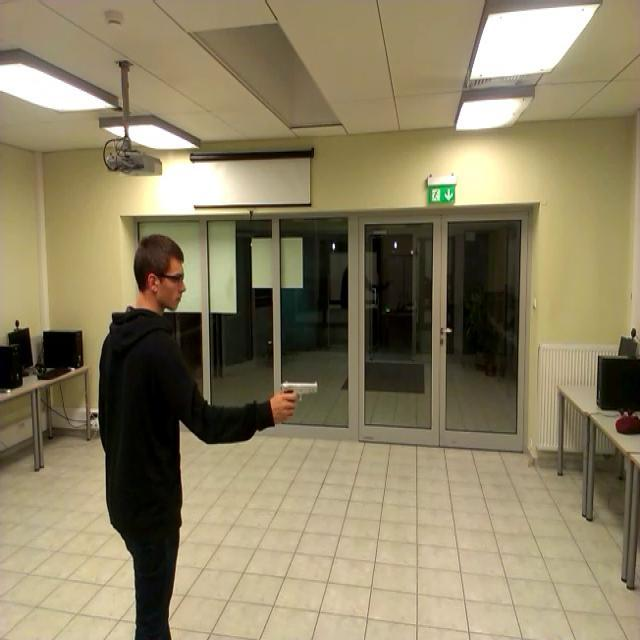Gun: (268, 371, 328, 427)
